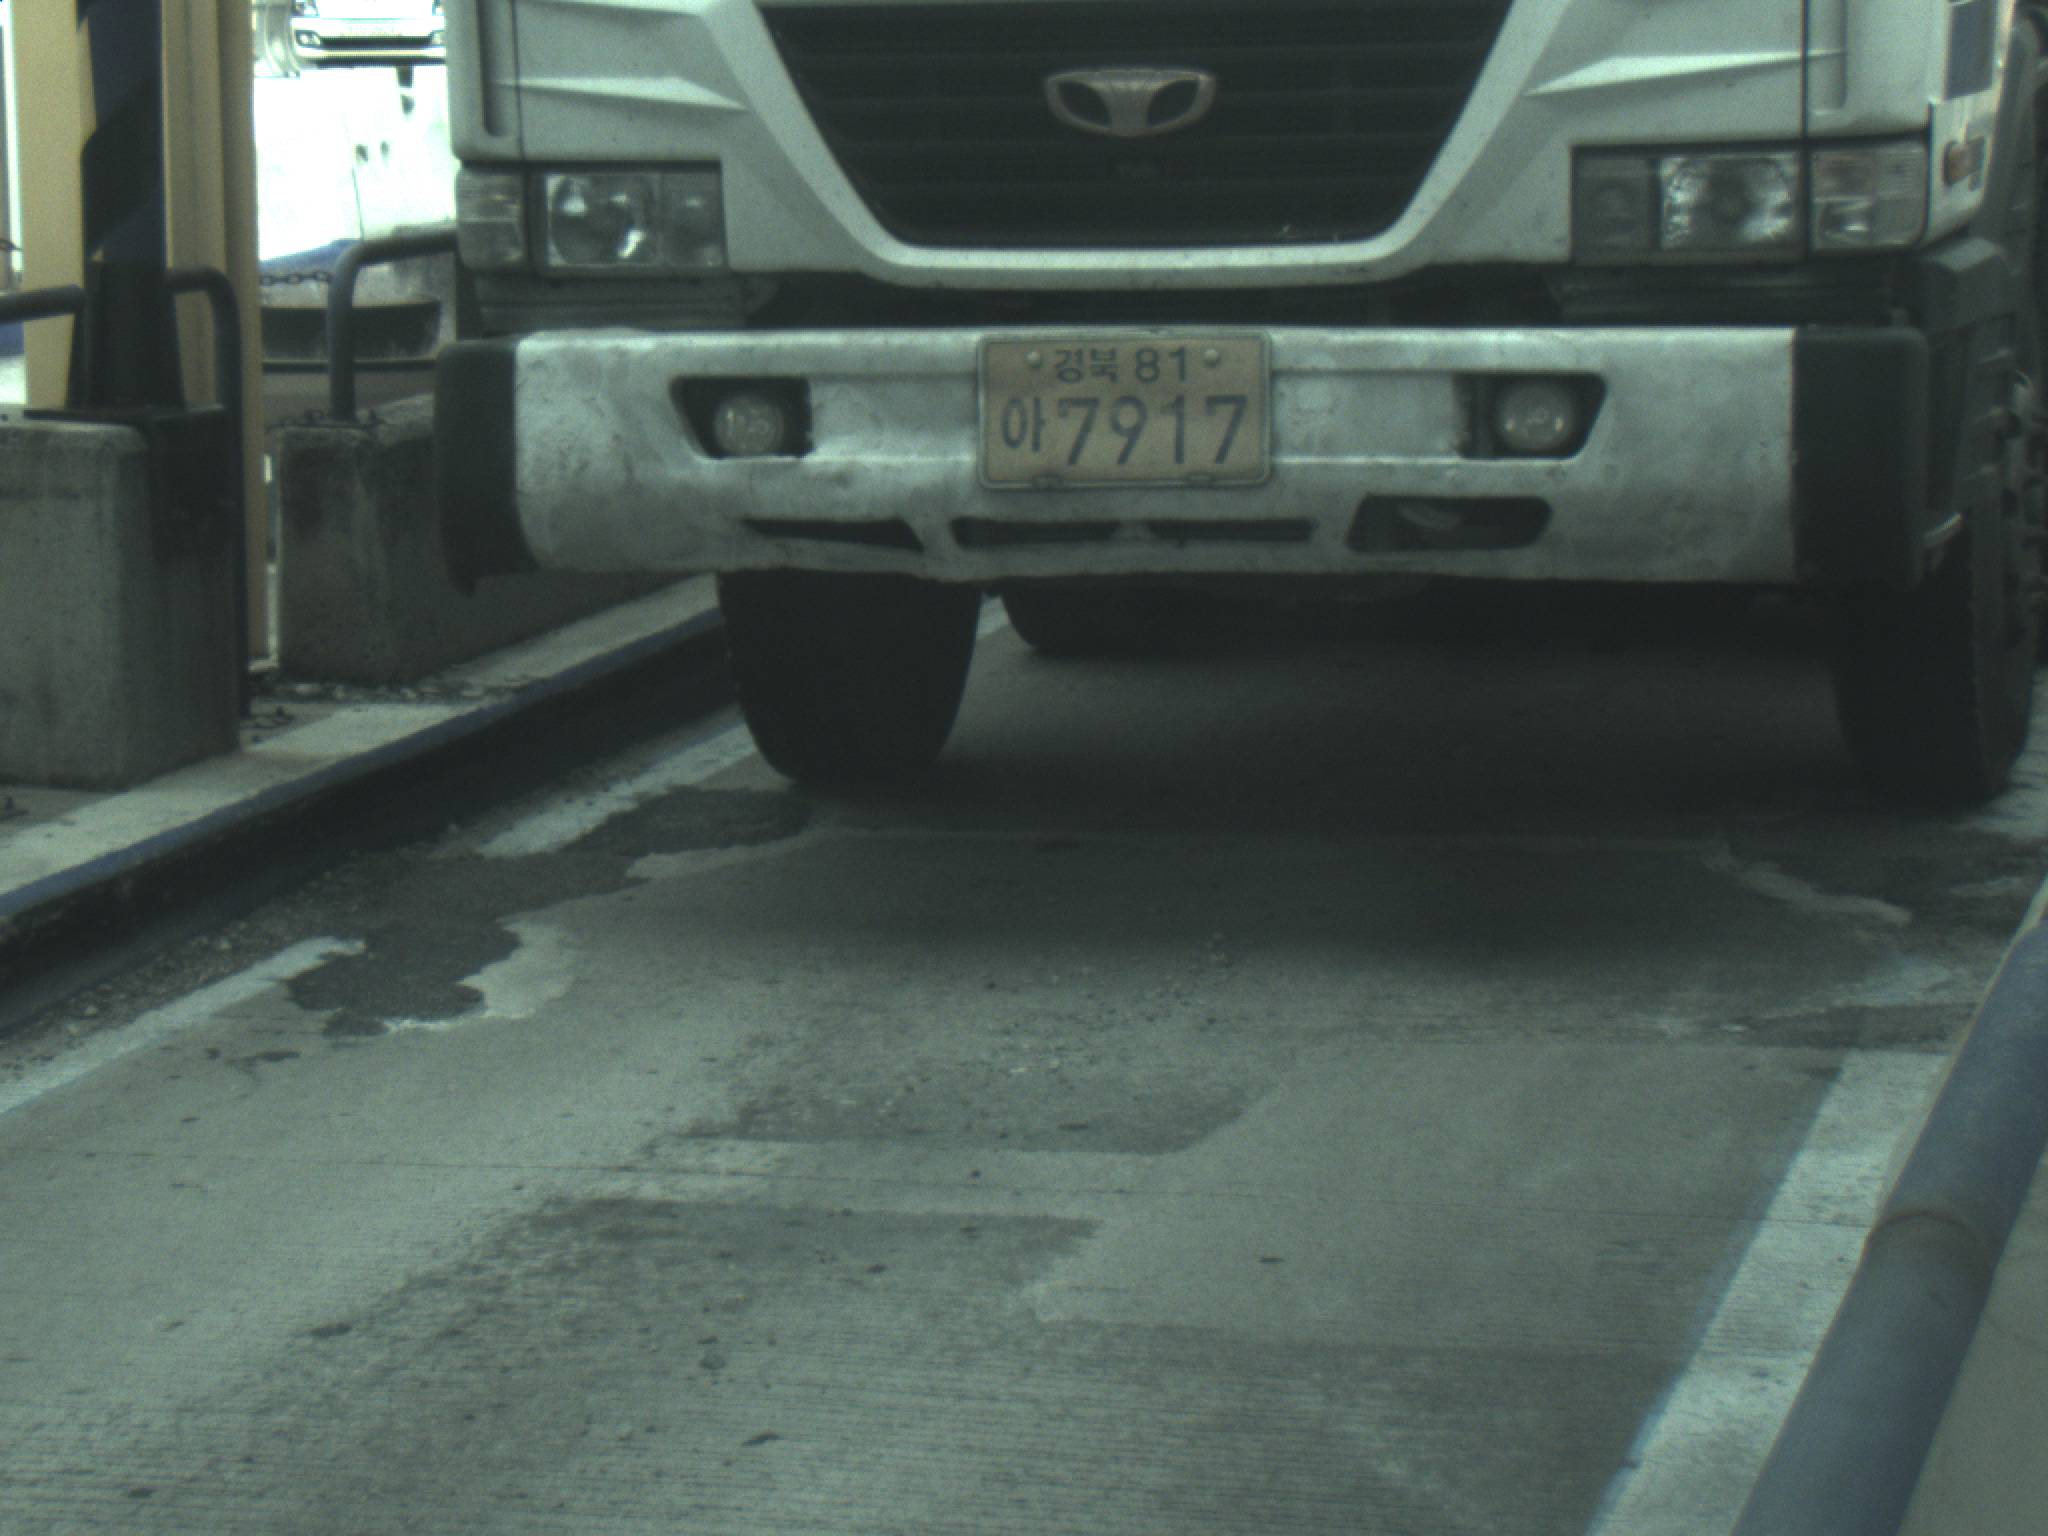car: (440, 1, 2044, 796)
plate: (974, 334, 1272, 485)
